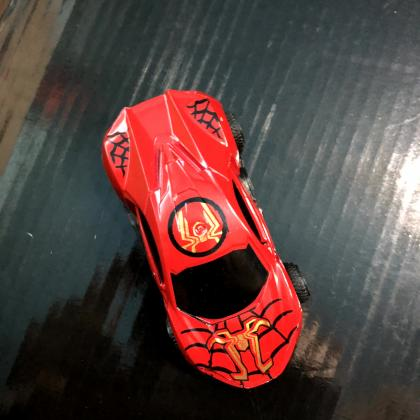Car: (101, 90, 303, 391)
